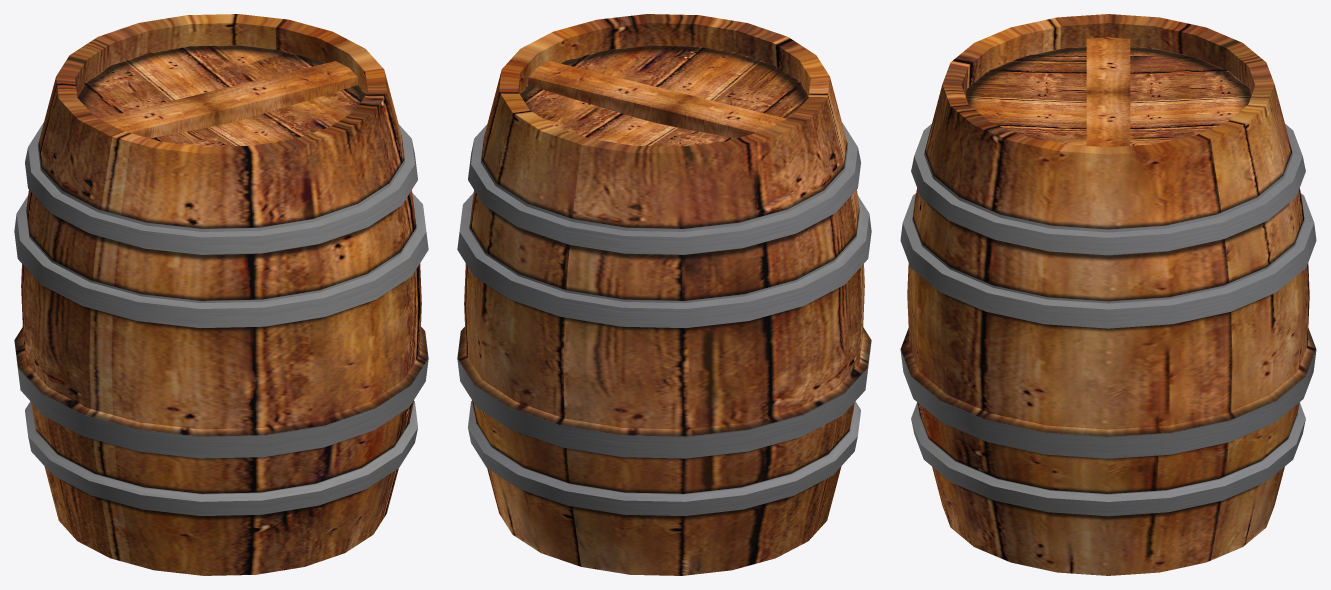
File: Barrel.fbx
The picture shows the model from 3 angles, left to right: view 1: azimuth 30°, elevation 25°; view 2: azimuth 150°, elevation 25°; view 3: azimuth 270°, elevation 25°; orthographic projection.
Visible parts, largest first — view 1: pCylinder1, pCube1; view 2: pCylinder1, pCube1; view 3: pCylinder1, pCube1.
Part boxes in pixels (<box>): pCylinder1: <box>14,14,428,575</box>; pCube1: <box>99,61,358,138</box>; pCylinder1: <box>457,14,871,575</box>; pCube1: <box>527,61,786,138</box>; pCylinder1: <box>900,14,1316,575</box>; pCube1: <box>1086,37,1130,147</box>.
Size of the model in its own units: 13.21 by 14.77 by 13.21.
Materials: 1 (1 with a texture image).
